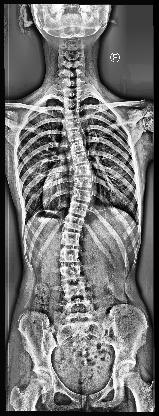Vertebrae: (65, 300, 93, 320), (59, 264, 83, 282), (63, 282, 87, 300), (63, 214, 85, 232), (61, 230, 82, 247), (68, 202, 90, 218), (70, 152, 92, 166), (72, 176, 94, 190), (59, 248, 81, 262), (68, 141, 88, 155), (72, 164, 92, 178), (72, 188, 92, 202), (66, 130, 84, 142), (63, 88, 82, 99), (64, 119, 80, 132), (64, 107, 80, 119), (63, 98, 82, 108)
